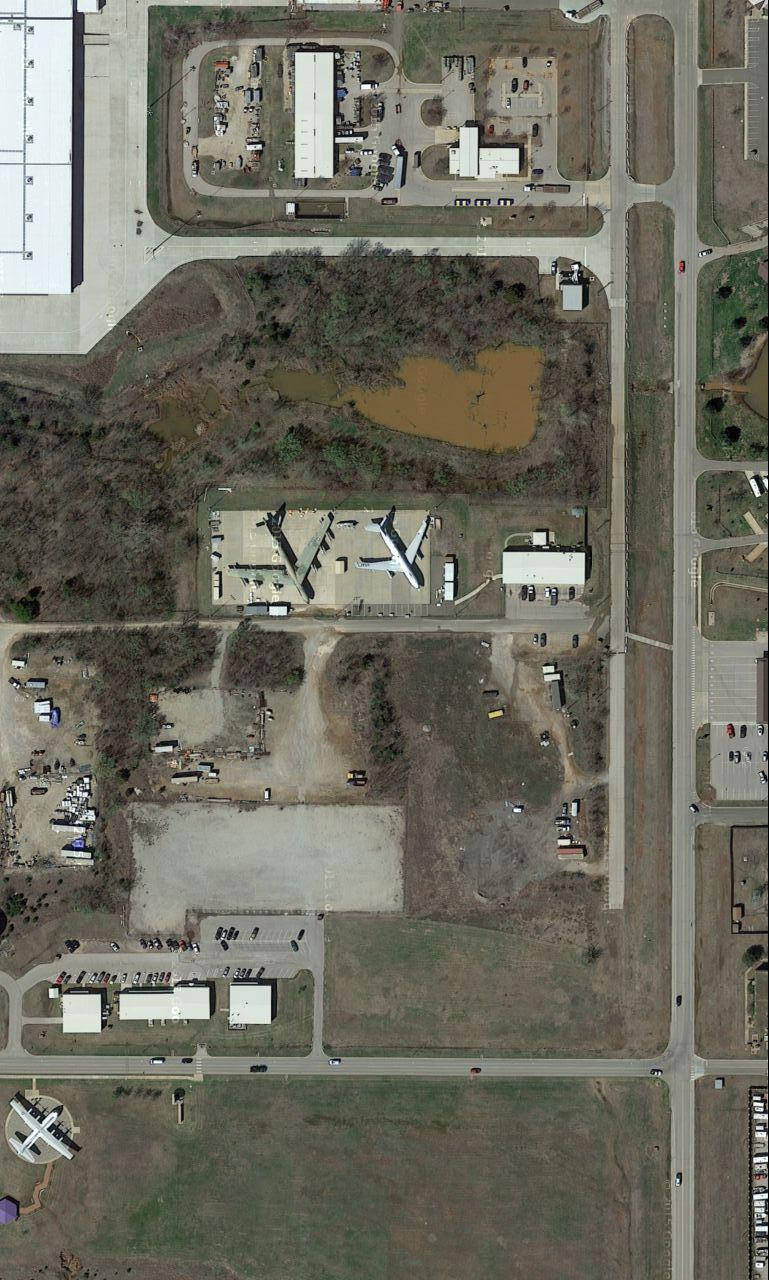B-52: (225, 499, 339, 603)
C-130: (4, 1092, 78, 1168)
KC-10: (357, 511, 436, 590)
